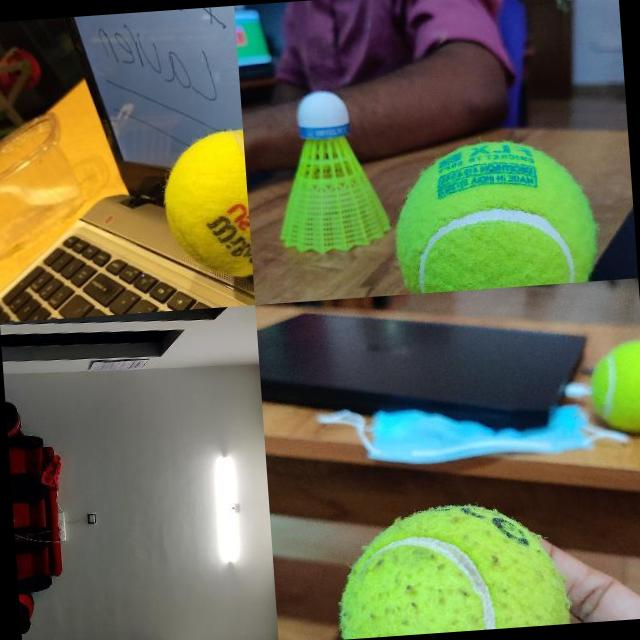Tennis Ball: (332, 496, 572, 638), (389, 134, 598, 294), (158, 127, 252, 282), (588, 339, 640, 434)
